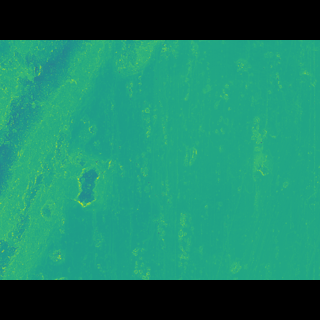Loch: (0, 69, 179, 250)
